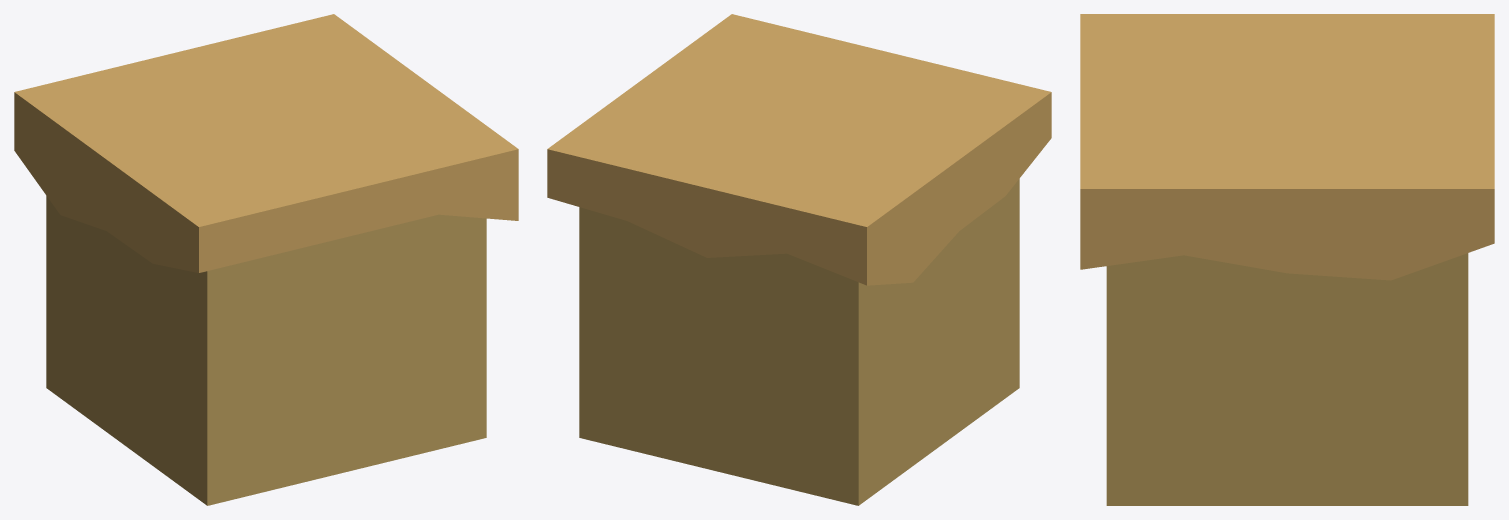
The model's file is Grid_Desert_2.fbx.
3 renders of one model, left to right at view 1: azimuth 30°, elevation 25°; view 2: azimuth 150°, elevation 25°; view 3: azimuth 270°, elevation 25°, orthographic. The views are drawn at different scales.
Parts seen in each view (by area): view 1: Cube.007; view 2: Cube.007; view 3: Cube.007.
Boxes of the visible parts, x1=… form: Cube.007: x1=14, y1=14, x2=518, y2=505; Cube.007: x1=547, y1=14, x2=1051, y2=505; Cube.007: x1=1080, y1=14, x2=1494, y2=505.
Bounding box in the file's own units: 114 × 100 × 114.
